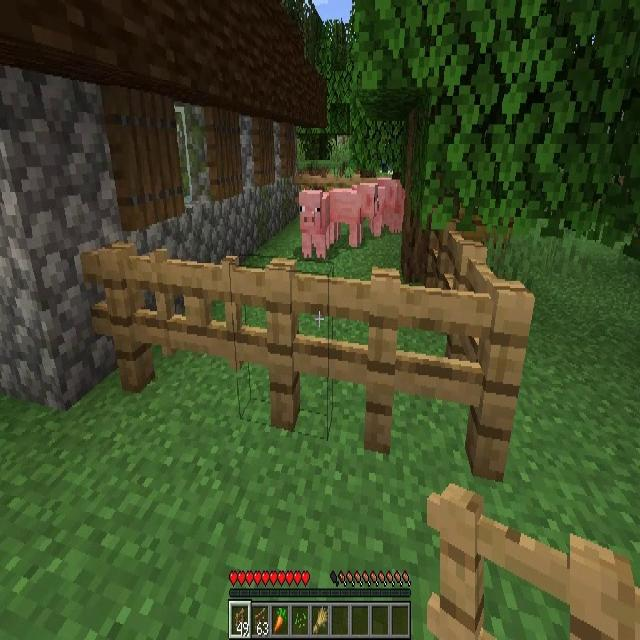pig: (330, 183, 379, 247), (301, 191, 329, 256), (380, 180, 404, 234)
